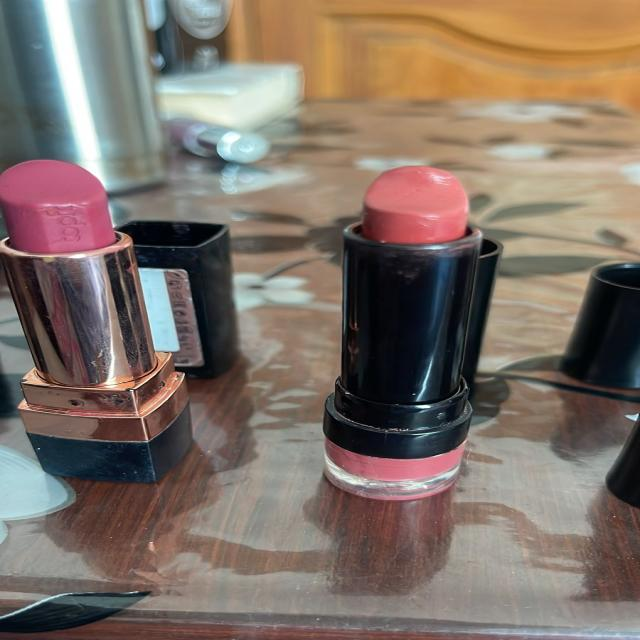lip stick: (0, 142, 189, 507), (320, 149, 501, 514)
